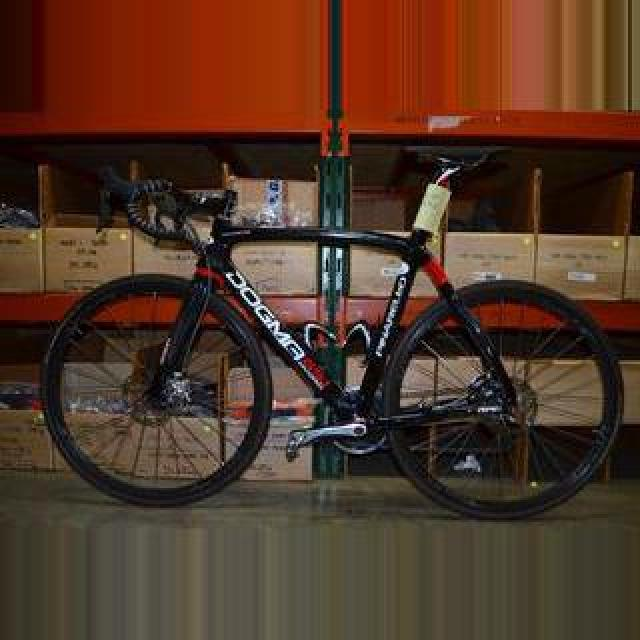Person: (33, 145, 621, 521)
